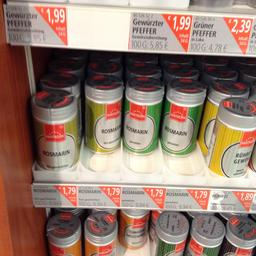spices: (28, 87, 78, 169), (206, 97, 255, 177), (82, 73, 122, 153), (164, 76, 204, 156), (126, 74, 164, 153), (150, 210, 188, 255), (43, 212, 80, 254), (189, 212, 224, 254), (82, 212, 116, 254)
